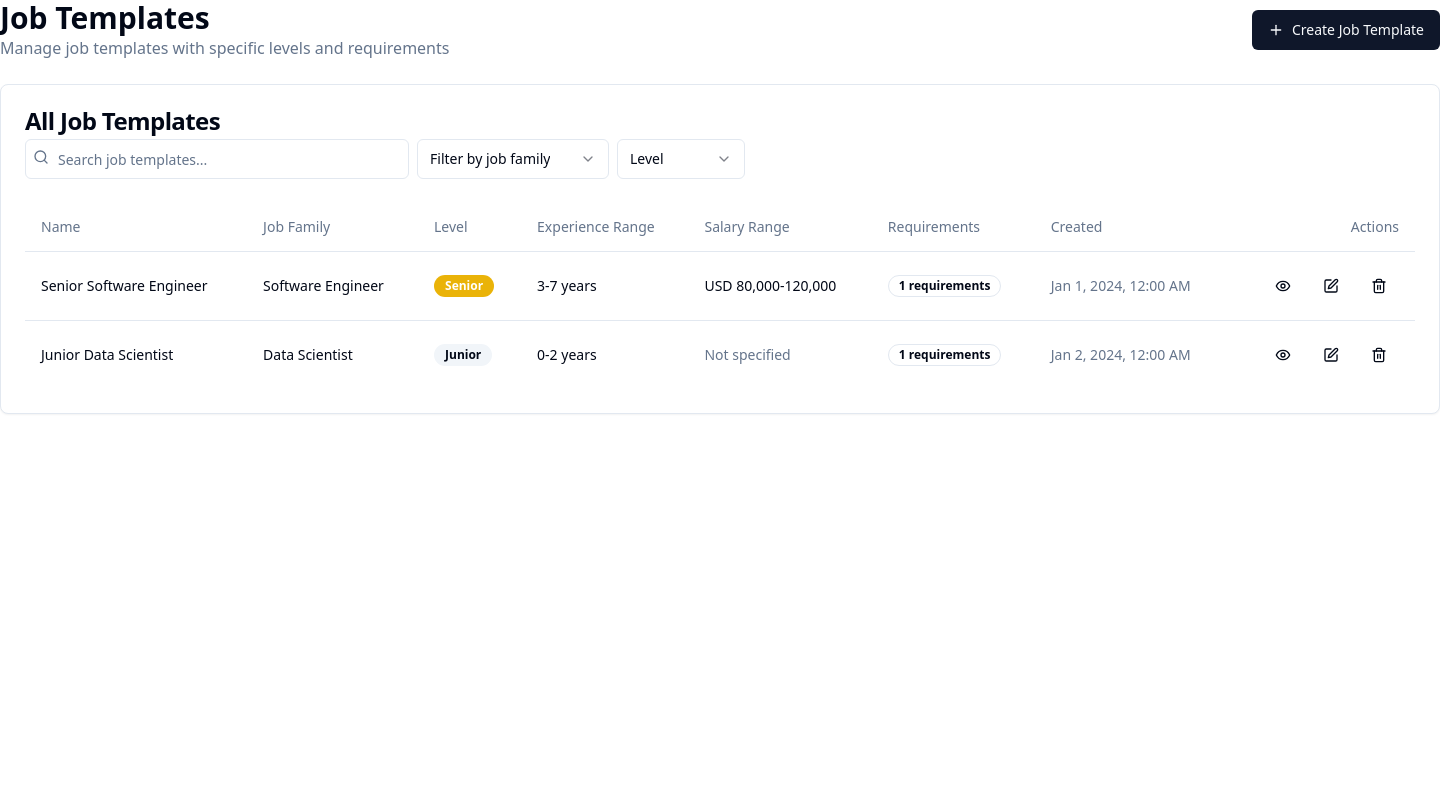
JobTemplateList › opens create dialog when create button is clicked
Click the button "Create Job Template".
click(1346, 30)  # box x1=1252 y1=10 x2=1439 y2=50
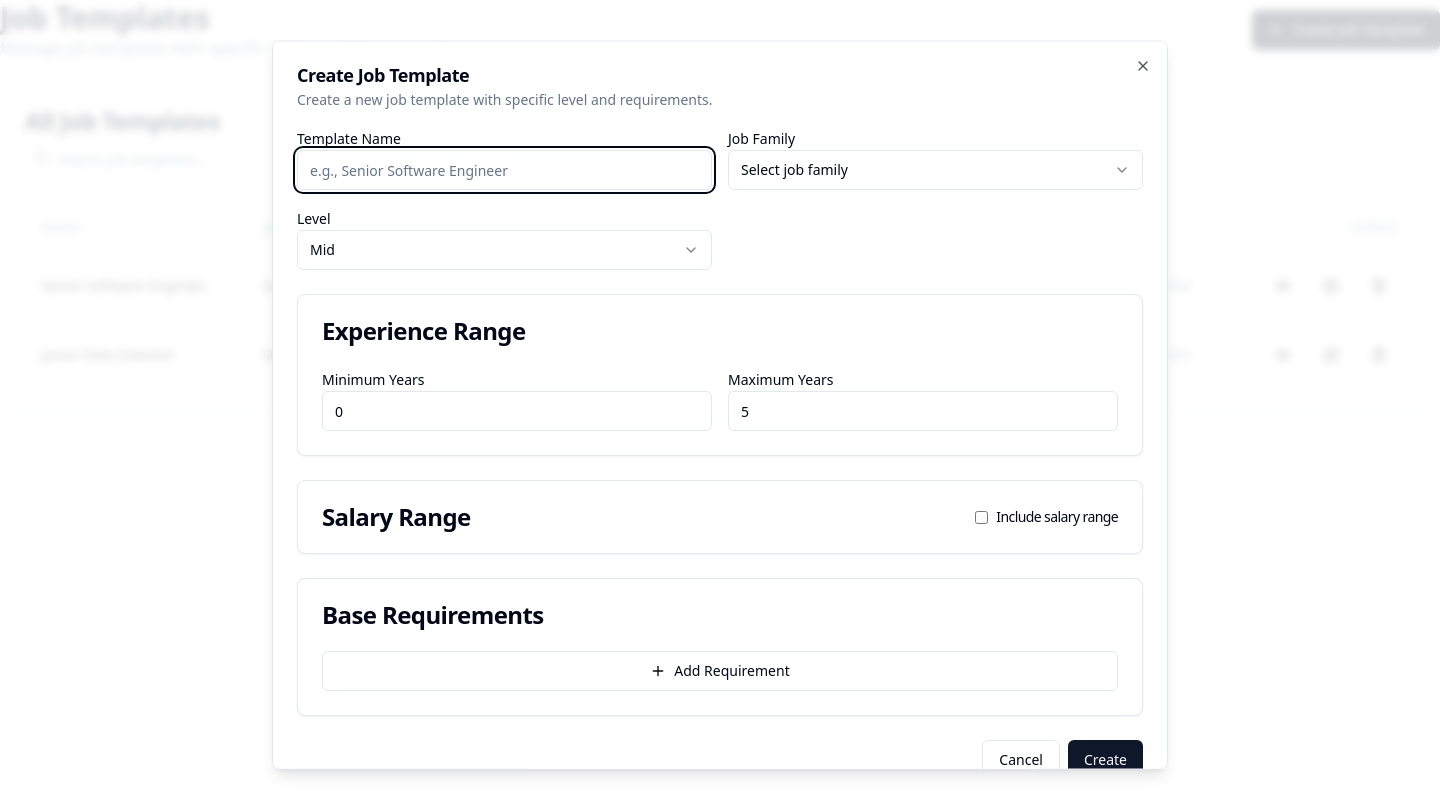
Expected: the text "Create a new job template with specific level and requirements." is shown, x1=297 y1=90 x2=712 y2=108
